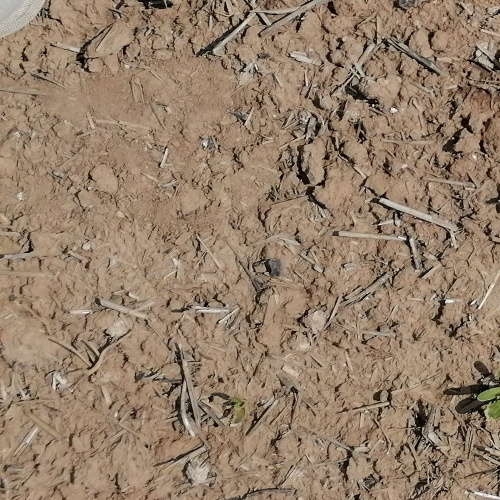beet: (477, 384, 500, 425), (220, 394, 249, 423)
